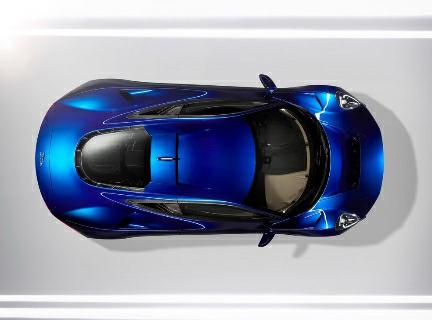捷豹-C-X75: (34, 67, 386, 256)
